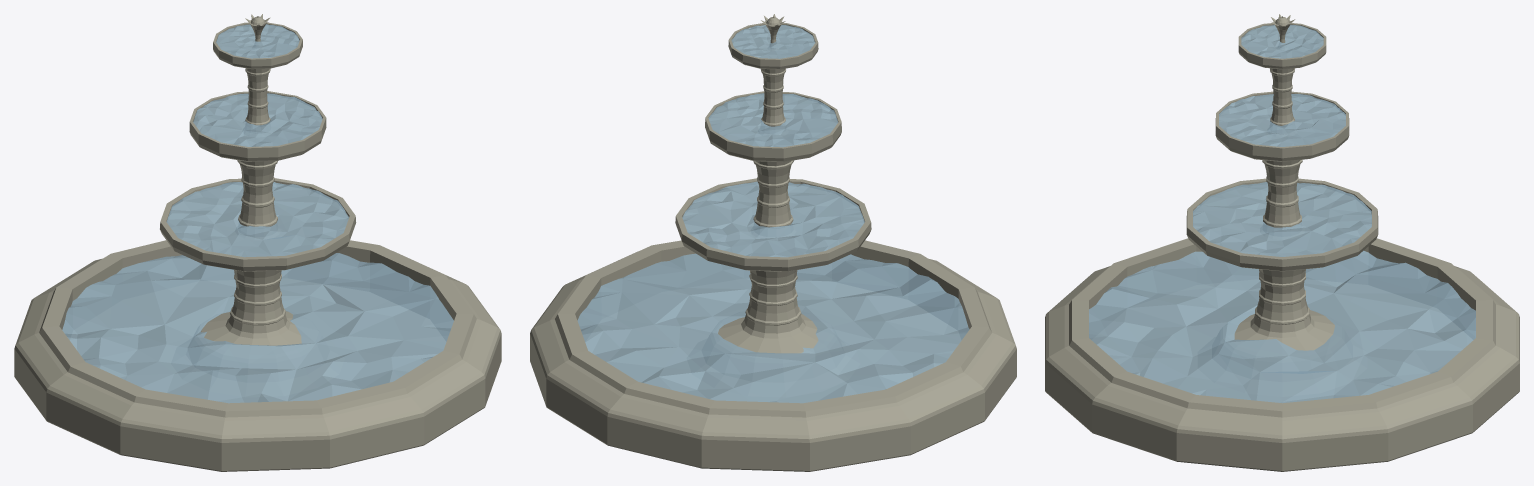
Rendered from fountain.fbx.
3 views of the same model, side by side, from view 1: azimuth 30°, elevation 25°; view 2: azimuth 150°, elevation 25°; view 3: azimuth 270°, elevation 25° (orthographic).
Visible parts, largest first — view 1: base_piece, water_base, second_disk, water_second_disk, third_disk, water_third_disk, upper_disk, down_body, second_body, water_upper_disk, third_body; view 2: base_piece, water_base, second_disk, water_second_disk, third_disk, water_third_disk, upper_disk, down_body, second_body, water_upper_disk, third_body; view 3: base_piece, water_base, second_disk, water_second_disk, third_disk, water_third_disk, upper_disk, down_body, second_body, water_upper_disk, third_body.
Boxes of the visible parts, left/top/right/bottom form: base_piece: left=14, top=240, right=501, bottom=471; water_base: left=62, top=253, right=453, bottom=403; second_disk: left=160, top=178, right=356, bottom=271; water_second_disk: left=166, top=182, right=348, bottom=257; third_disk: left=189, top=91, right=326, bottom=161; water_third_disk: left=193, top=93, right=322, bottom=146; upper_disk: left=213, top=14, right=302, bottom=69; down_body: left=227, top=270, right=288, bottom=335; second_body: left=235, top=160, right=280, bottom=239; water_upper_disk: left=216, top=24, right=299, bottom=58; third_body: left=243, top=68, right=272, bottom=136; base_piece: left=530, top=240, right=1016, bottom=471; water_base: left=577, top=253, right=969, bottom=403; second_disk: left=675, top=178, right=871, bottom=271; water_second_disk: left=682, top=181, right=864, bottom=257; third_disk: left=705, top=91, right=841, bottom=162; water_third_disk: left=708, top=93, right=838, bottom=147; upper_disk: left=728, top=14, right=818, bottom=69; down_body: left=742, top=270, right=804, bottom=335; second_body: left=751, top=160, right=795, bottom=239; water_upper_disk: left=731, top=25, right=815, bottom=58; third_body: left=758, top=68, right=788, bottom=137; base_piece: left=1045, top=238, right=1519, bottom=471; water_base: left=1089, top=250, right=1475, bottom=403; second_disk: left=1186, top=178, right=1378, bottom=271; water_second_disk: left=1193, top=182, right=1371, bottom=256; third_disk: left=1215, top=91, right=1349, bottom=161; water_third_disk: left=1219, top=94, right=1345, bottom=146; upper_disk: left=1238, top=14, right=1326, bottom=69; down_body: left=1252, top=269, right=1312, bottom=335; second_body: left=1260, top=159, right=1304, bottom=239; water_upper_disk: left=1241, top=24, right=1323, bottom=58; third_body: left=1268, top=68, right=1296, bottom=136.
Size of the model in its own units: 20.08 by 16.06 by 19.57.
